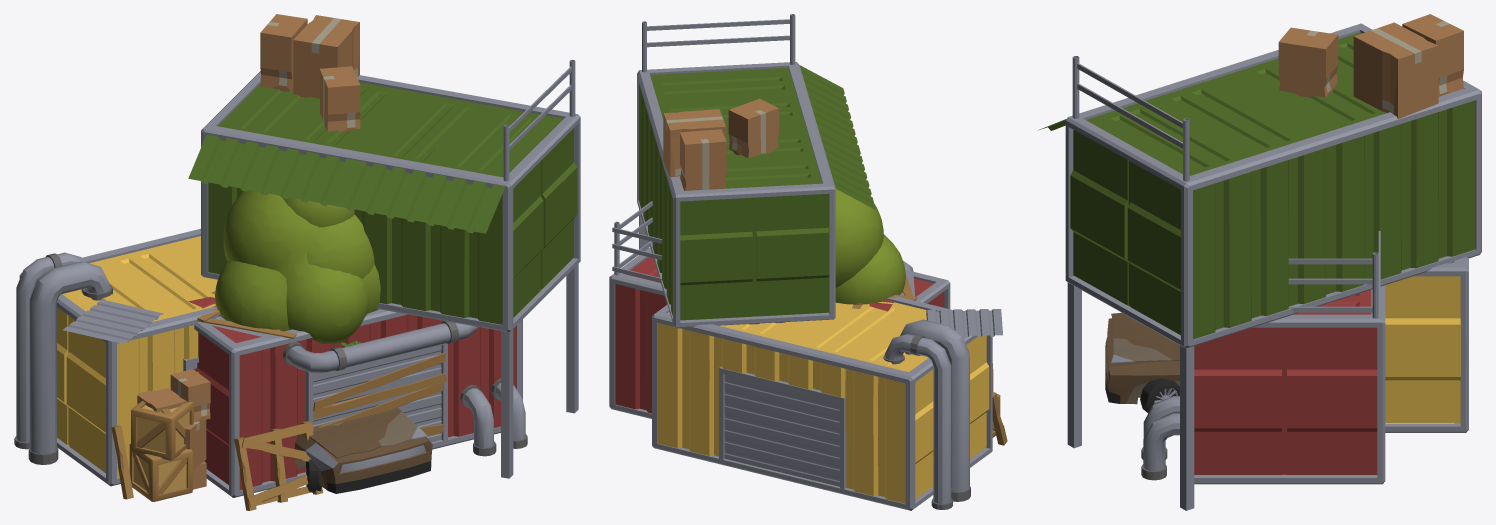
File: island_kit.glb
The picture shows the model from 3 angles, left to right: view 1: azimuth 30°, elevation 25°; view 2: azimuth 150°, elevation 25°; view 3: azimuth 270°, elevation 25°; orthographic projection. The views are drawn at different scales.
Visible parts, largest first — view 1: K_T_struct2, K_T_struct1, K_T_tree1, K_T_car, K_T_tree3, K_T_tree2; view 2: K_T_struct2, K_T_struct1, K_T_tree1, K_T_tree3; view 3: K_T_struct2, K_T_struct1, K_T_car.
Part boxes in pixels (<box>): K_T_struct2: <box>14,14,580,501</box>; K_T_struct1: <box>137,291,527,510</box>; K_T_tree1: <box>223,190,369,344</box>; K_T_car: <box>295,407,432,493</box>; K_T_tree3: <box>215,215,374,331</box>; K_T_tree2: <box>283,197,354,227</box>; K_T_struct2: <box>637,14,1007,510</box>; K_T_struct1: <box>609,201,950,418</box>; K_T_tree1: <box>835,189,883,287</box>; K_T_tree3: <box>835,234,905,304</box>; K_T_struct2: <box>1038,14,1481,510</box>; K_T_struct1: <box>1141,230,1385,484</box>; K_T_car: <box>1105,312,1179,413</box>.
Size of the model in its own units: 10.58 by 7.79 by 7.97.
58 materials, 4 textured.
